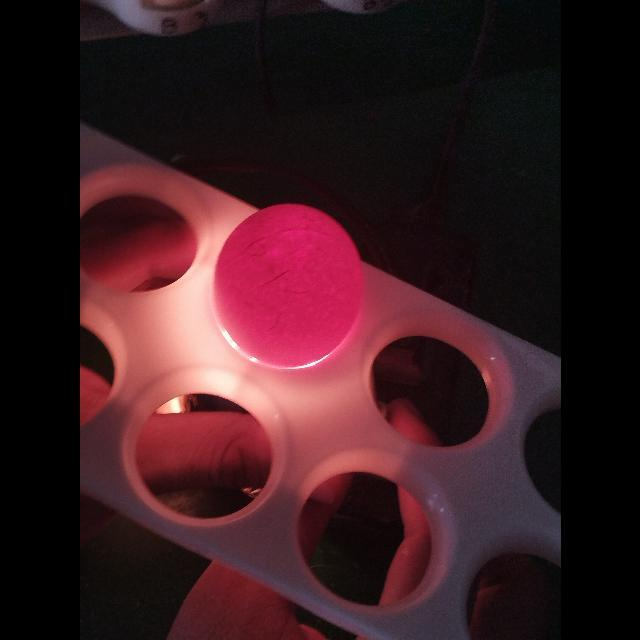Infertile: (216, 198, 362, 368)
